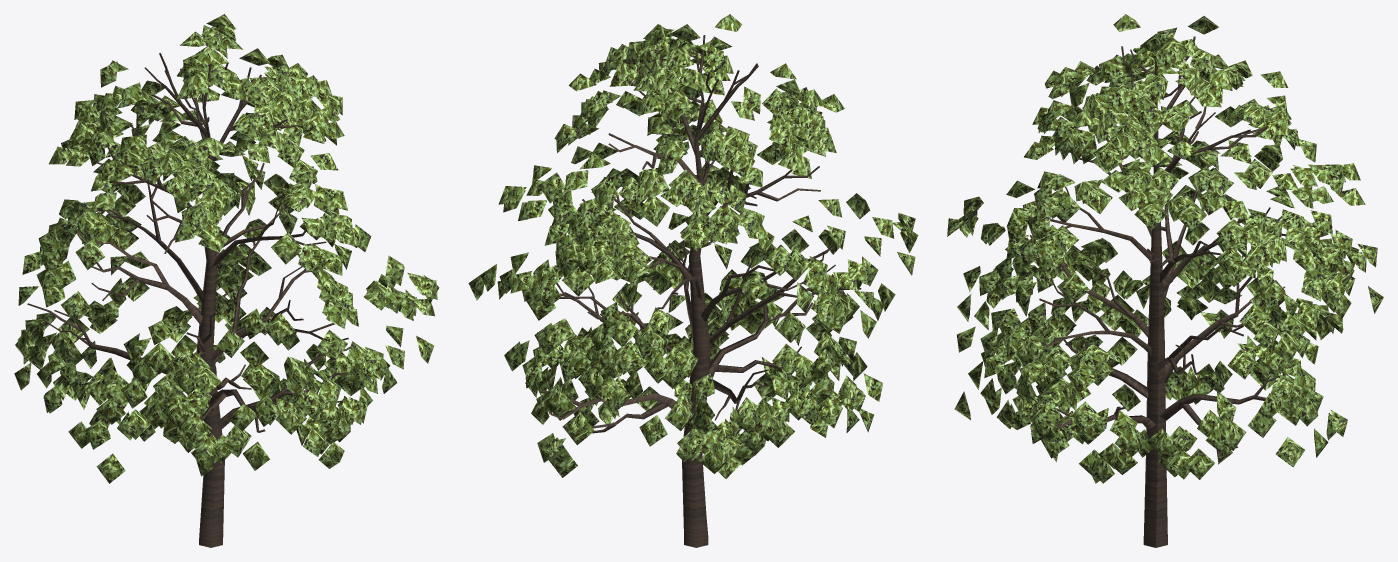
Rendered from arbolB.obj.
The picture shows the model from 3 angles, left to right: view 1: azimuth 30°, elevation 25°; view 2: azimuth 150°, elevation 25°; view 3: azimuth 270°, elevation 25°; orthographic projection.
Visible parts, largest first — view 1: Mesh26_Follaje___Hojas__rbol_Peque_o_0, Mesh27_Follaje___Hojas__rbol_Peque_o_0, Mesh28_Follaje___Hojas__rbol_Peque_o_0, Mesh1_Madera___Nogal_Horizontal_0, Mesh13_Madera___Nogal_Horizontal_0, Mesh15_Madera___Nogal_Horizontal_0, Mesh16_Madera___Nogal_Horizontal_0, Mesh8_Madera___Nogal_Horizontal_0, Mesh9_Madera___Nogal_Horizontal_0; view 2: Mesh27_Follaje___Hojas__rbol_Peque_o_0, Mesh26_Follaje___Hojas__rbol_Peque_o_0, Mesh1_Madera___Nogal_Horizontal_0, Mesh28_Follaje___Hojas__rbol_Peque_o_0, Mesh13_Madera___Nogal_Horizontal_0, Mesh12_Madera___Nogal_Horizontal_0, Mesh2_Madera___Nogal_Horizontal_0, Mesh6_Madera___Nogal_Horizontal_0, Mesh16_Madera___Nogal_Horizontal_0, Mesh8_Madera___Nogal_Horizontal_0; view 3: Mesh27_Follaje___Hojas__rbol_Peque_o_0, Mesh26_Follaje___Hojas__rbol_Peque_o_0, Mesh1_Madera___Nogal_Horizontal_0, Mesh28_Follaje___Hojas__rbol_Peque_o_0, Mesh12_Madera___Nogal_Horizontal_0, Mesh2_Madera___Nogal_Horizontal_0, Mesh8_Madera___Nogal_Horizontal_0, Mesh21_Madera___Nogal_Horizontal_0, Mesh11_Madera___Nogal_Horizontal_0, Mesh18_Madera___Nogal_Horizontal_0, Mesh13_Madera___Nogal_Horizontal_0.
Boxes of the visible parts, box(x1,y1,x2,y2) form: Mesh26_Follaje___Hojas__rbol_Peque_o_0: box(15, 14, 439, 470); Mesh27_Follaje___Hojas__rbol_Peque_o_0: box(14, 25, 423, 483); Mesh28_Follaje___Hojas__rbol_Peque_o_0: box(163, 54, 342, 476); Mesh1_Madera___Nogal_Horizontal_0: box(196, 63, 224, 547); Mesh13_Madera___Nogal_Horizontal_0: box(77, 231, 221, 375); Mesh15_Madera___Nogal_Horizontal_0: box(91, 209, 203, 303); Mesh16_Madera___Nogal_Horizontal_0: box(108, 163, 264, 256); Mesh8_Madera___Nogal_Horizontal_0: box(27, 303, 277, 418); Mesh9_Madera___Nogal_Horizontal_0: box(43, 270, 310, 364); Mesh27_Follaje___Hojas__rbol_Peque_o_0: box(468, 14, 883, 477); Mesh26_Follaje___Hojas__rbol_Peque_o_0: box(504, 28, 918, 478); Mesh1_Madera___Nogal_Horizontal_0: box(682, 52, 710, 547); Mesh28_Follaje___Hojas__rbol_Peque_o_0: box(569, 41, 883, 389); Mesh13_Madera___Nogal_Horizontal_0: box(700, 248, 861, 322); Mesh12_Madera___Nogal_Horizontal_0: box(668, 239, 835, 345); Mesh2_Madera___Nogal_Horizontal_0: box(550, 35, 725, 419); Mesh6_Madera___Nogal_Horizontal_0: box(600, 302, 813, 377); Mesh16_Madera___Nogal_Horizontal_0: box(582, 199, 691, 294); Mesh8_Madera___Nogal_Horizontal_0: box(713, 287, 810, 403); Mesh27_Follaje___Hojas__rbol_Peque_o_0: box(979, 14, 1377, 483); Mesh26_Follaje___Hojas__rbol_Peque_o_0: box(947, 16, 1383, 475); Mesh1_Madera___Nogal_Horizontal_0: box(1143, 60, 1167, 547); Mesh28_Follaje___Hojas__rbol_Peque_o_0: box(974, 86, 1198, 364); Mesh12_Madera___Nogal_Horizontal_0: box(1030, 235, 1148, 339); Mesh2_Madera___Nogal_Horizontal_0: box(1130, 49, 1266, 420); Mesh8_Madera___Nogal_Horizontal_0: box(1084, 270, 1256, 382); Mesh21_Madera___Nogal_Horizontal_0: box(1165, 96, 1267, 172); Mesh11_Madera___Nogal_Horizontal_0: box(1046, 325, 1243, 368); Mesh18_Madera___Nogal_Horizontal_0: box(1033, 203, 1158, 263); Mesh13_Madera___Nogal_Horizontal_0: box(1060, 164, 1206, 317).
Bounding box in the file's own units: 3.16 × 4.35 × 3.32.
2 materials, 2 textured.
